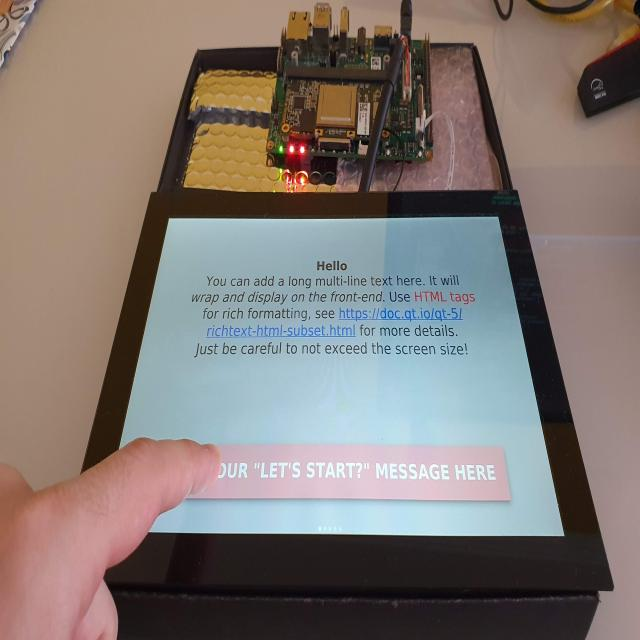som: (278, 70, 395, 153)
